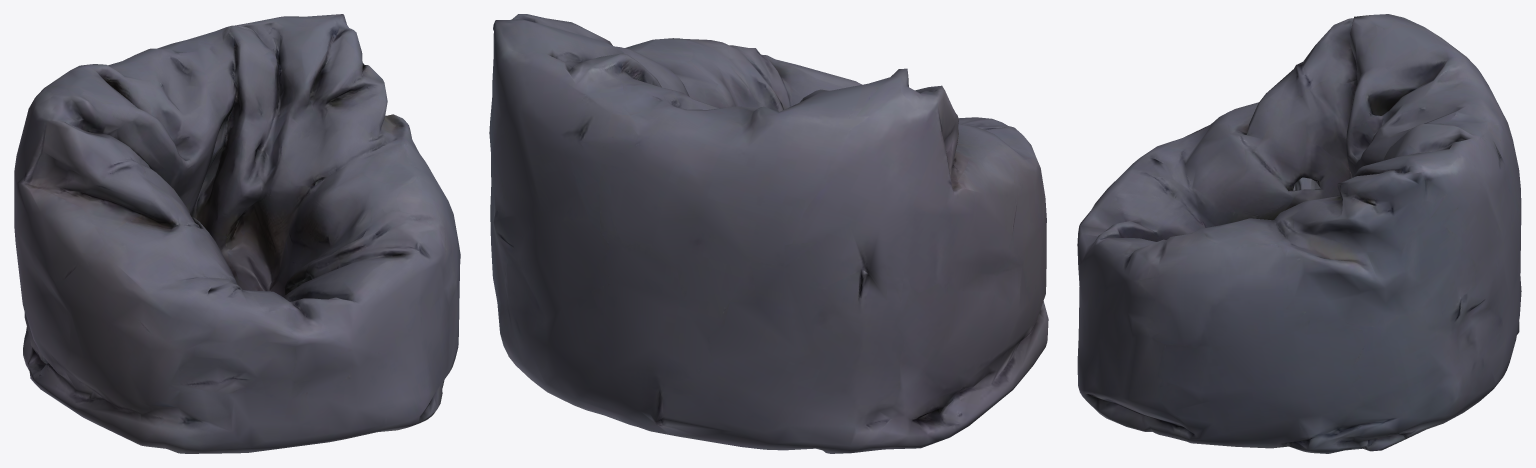
The picture shows the model from 3 angles, left to right: view 1: azimuth 30°, elevation 25°; view 2: azimuth 150°, elevation 25°; view 3: azimuth 270°, elevation 25°; orthographic projection. The views are drawn at different scales.
Bounding box in the file's own units: 2 × 1.44 × 2.
1 material, 1 textured.
